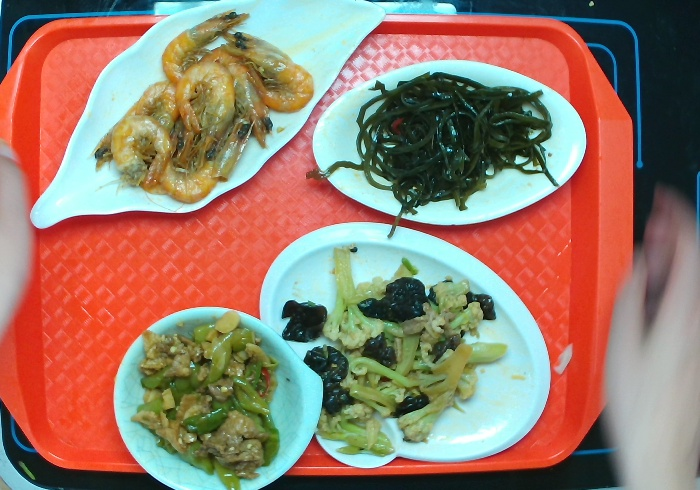RJxy-Bai_Se_Tuo_Yuan: (303, 53, 590, 236)
RJxy-Shu_Ye_Pan: (19, 1, 386, 236)
RJxy-Xiao_Jiao_Yuan_Wan: (109, 300, 326, 490)
RJxy-Zhan_Liao_Pan: (255, 217, 558, 466)
